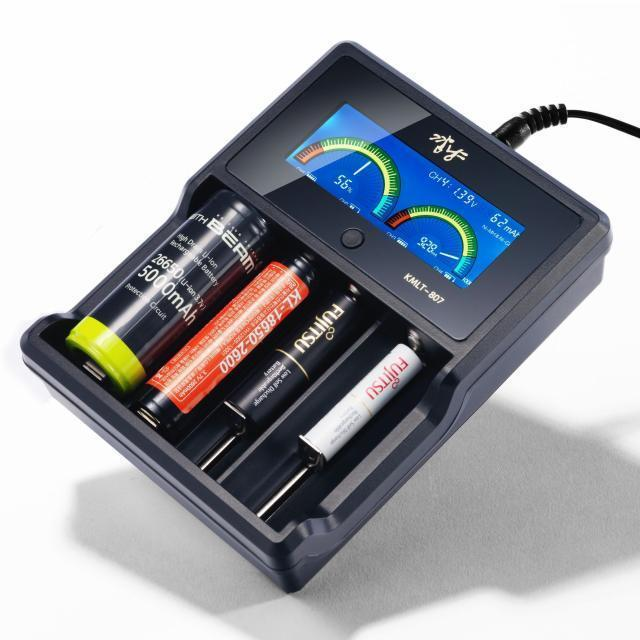Hazard: (63, 188, 274, 398), (130, 246, 319, 424), (228, 288, 366, 429), (304, 342, 424, 463)
